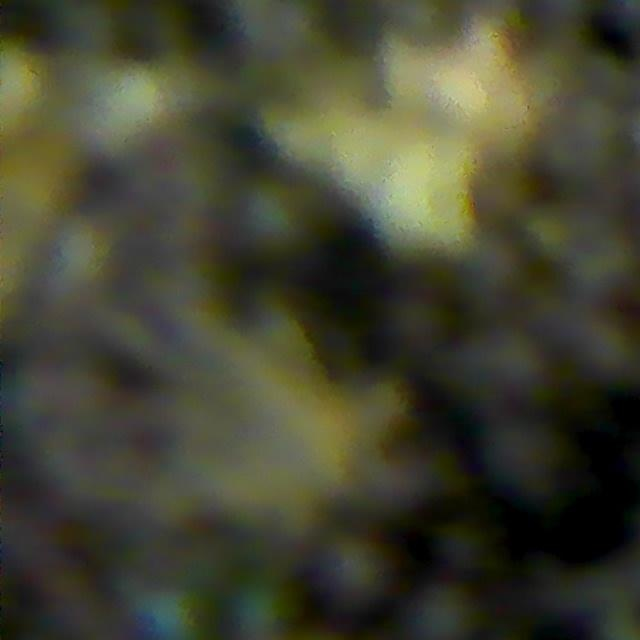SeaGrape: (482, 414, 569, 499), (315, 534, 391, 610), (235, 179, 307, 257), (404, 580, 478, 640), (132, 581, 202, 640), (229, 581, 292, 640), (433, 518, 492, 573)
